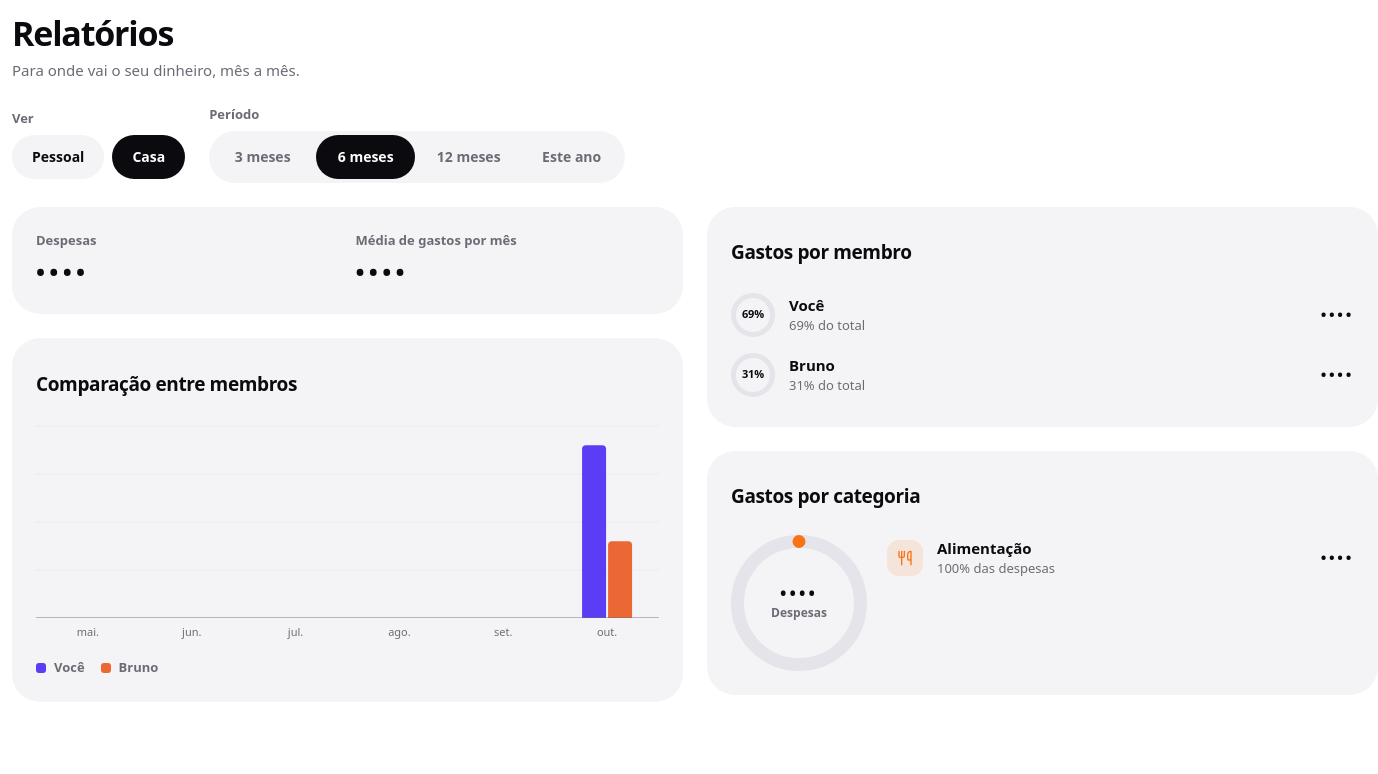
Test: ocultar valores: nenhum valor vaza em /reports?scope=g1 (resumo, eixo, balão, tabela)
Focus the picture named "Comparação entre membros. Valores ocultos": (348, 518) [36,418,659,618]
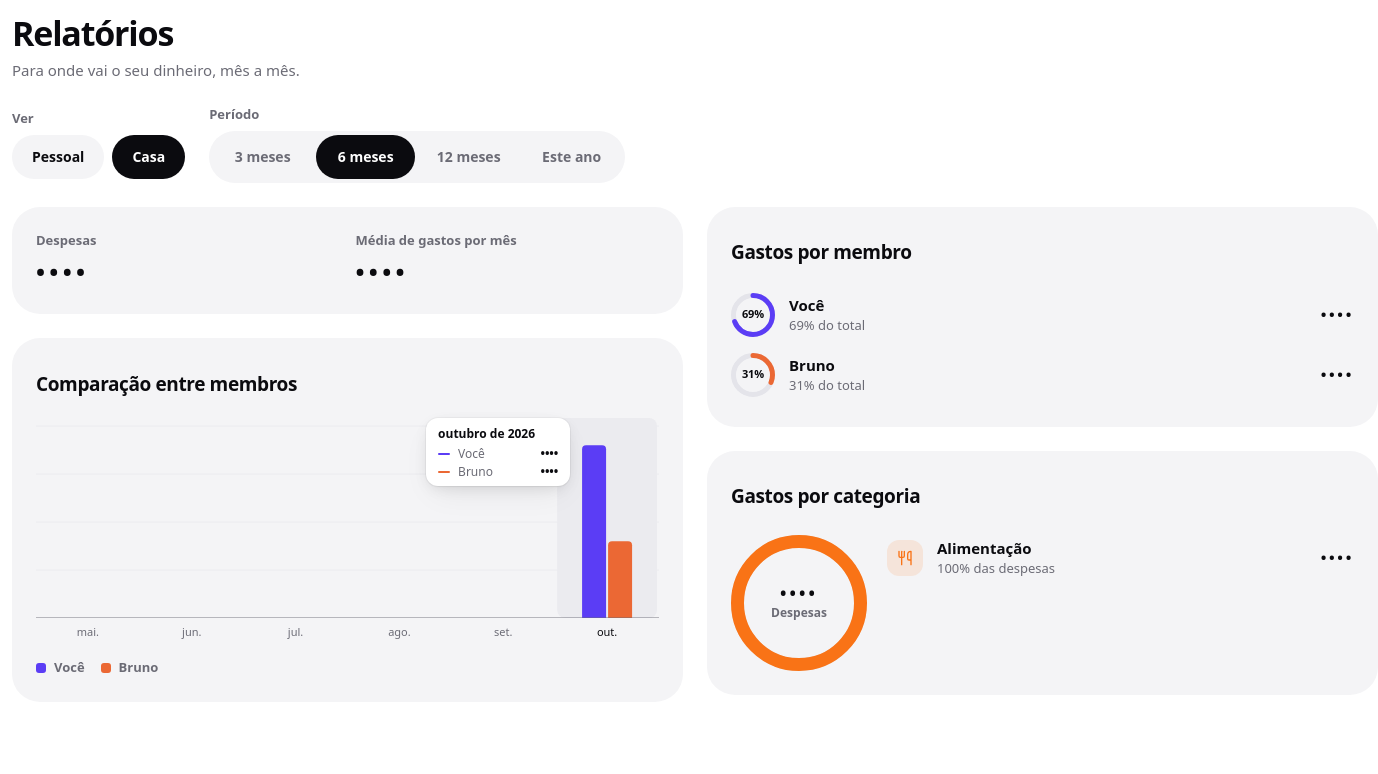
Expected: the text "••••" is shown, [36,254,89,290]
Now the tooltip "outubro de 2026 Você •••• Bruno ••••" is shown, box [426,418,570,486]
